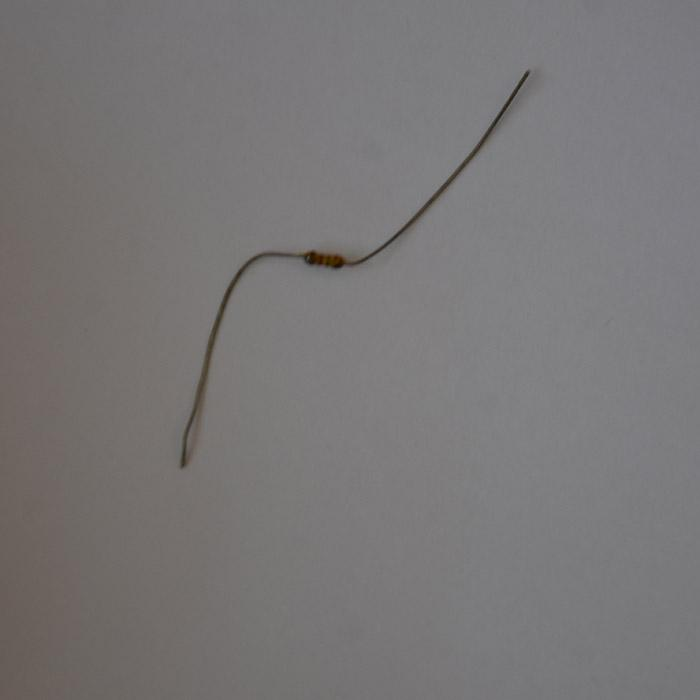resistor: (301, 247, 350, 272)
